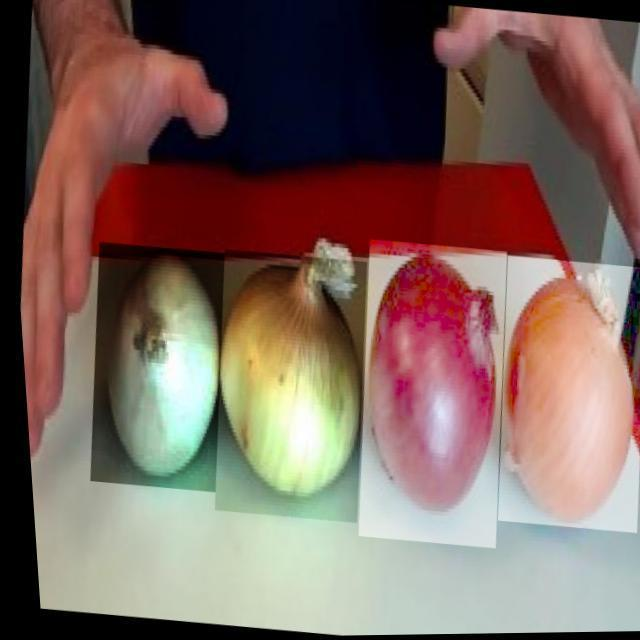Onion: (335, 239, 518, 552), (194, 248, 376, 526), (476, 256, 640, 536), (70, 240, 234, 494)
